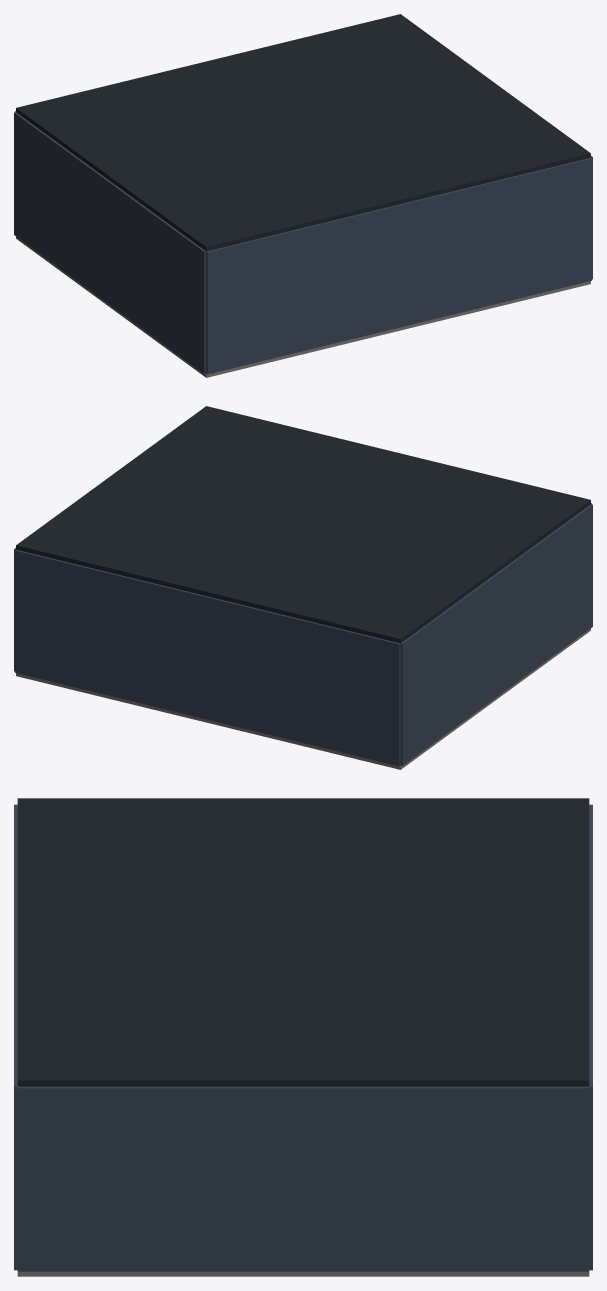
The model's file is workshop.glb.
3 renders of one model, top to bottom at view 1: azimuth 30°, elevation 25°; view 2: azimuth 150°, elevation 25°; view 3: azimuth 270°, elevation 25°, orthographic. The views are drawn at different scales.
Parts seen in each view (by area): view 1: ceiling, wall_front, wall_left, floor; view 2: ceiling, wall_back, wall_left, floor; view 3: ceiling, wall_right, floor, wall_back, wall_front.
Boxes of the visible parts, left/top/right/bottom form: ceiling: left=16, top=14, right=590, bottom=251; wall_front: left=206, top=157, right=591, bottom=374; wall_left: left=14, top=112, right=206, bottom=373; floor: left=16, top=236, right=590, bottom=377; ceiling: left=16, top=406, right=590, bottom=643; wall_back: left=15, top=549, right=400, bottom=766; wall_left: left=400, top=504, right=592, bottom=765; floor: left=16, top=628, right=590, bottom=769; ceiling: left=17, top=798, right=589, bottom=1086; wall_right: left=17, top=1086, right=589, bottom=1271; floor: left=17, top=1271, right=589, bottom=1276; wall_back: left=589, top=804, right=592, bottom=1270; wall_front: left=14, top=804, right=17, bottom=1270.
Bounding box in the file's own units: 28.3 × 9.1 × 24.3.
